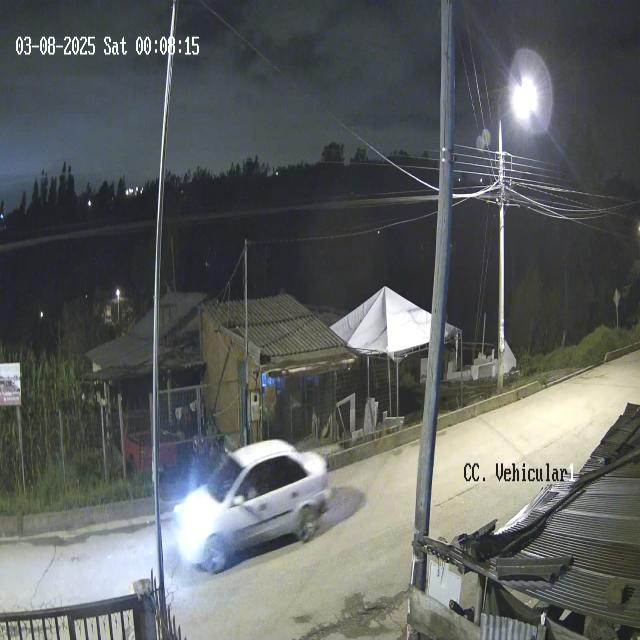SED: (173, 441, 330, 578)
